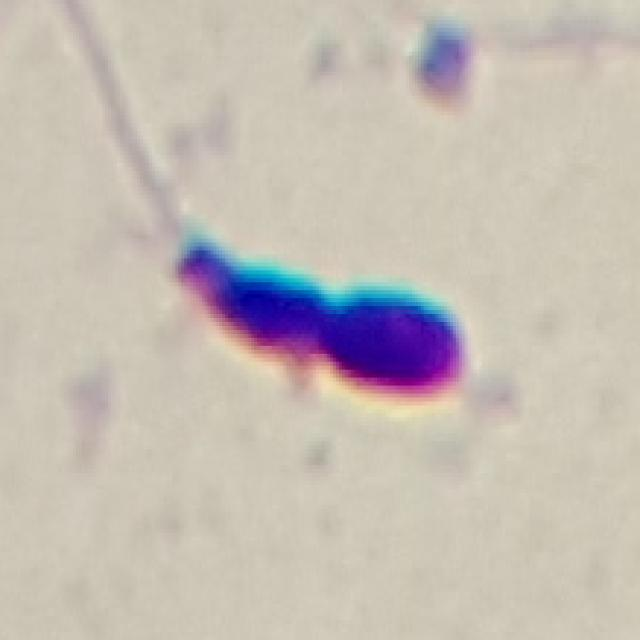abnormal sperm: (127, 180, 474, 418)
